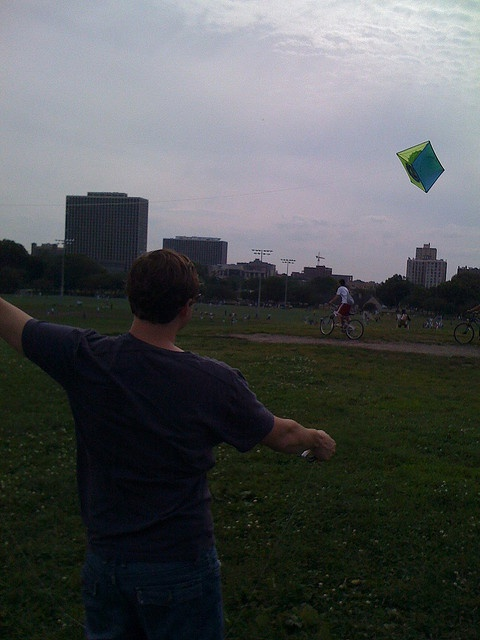non-vehicle: (320, 305, 364, 340), (452, 310, 479, 346)
